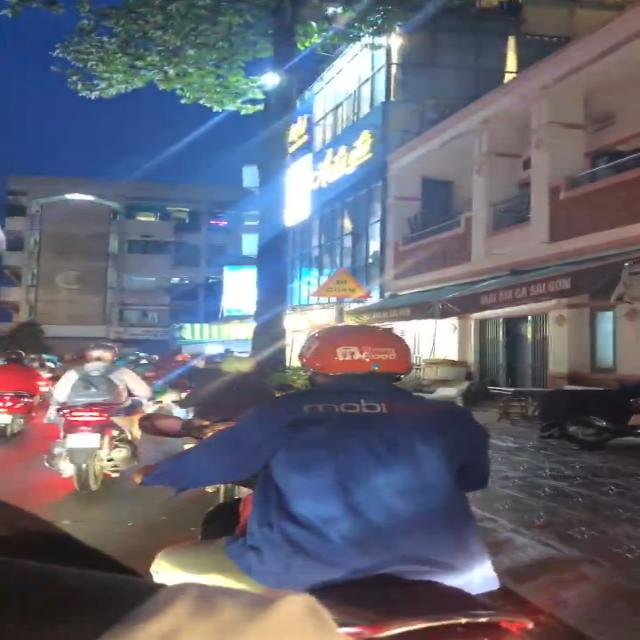Bien bao di cham: (308, 267, 374, 302)
